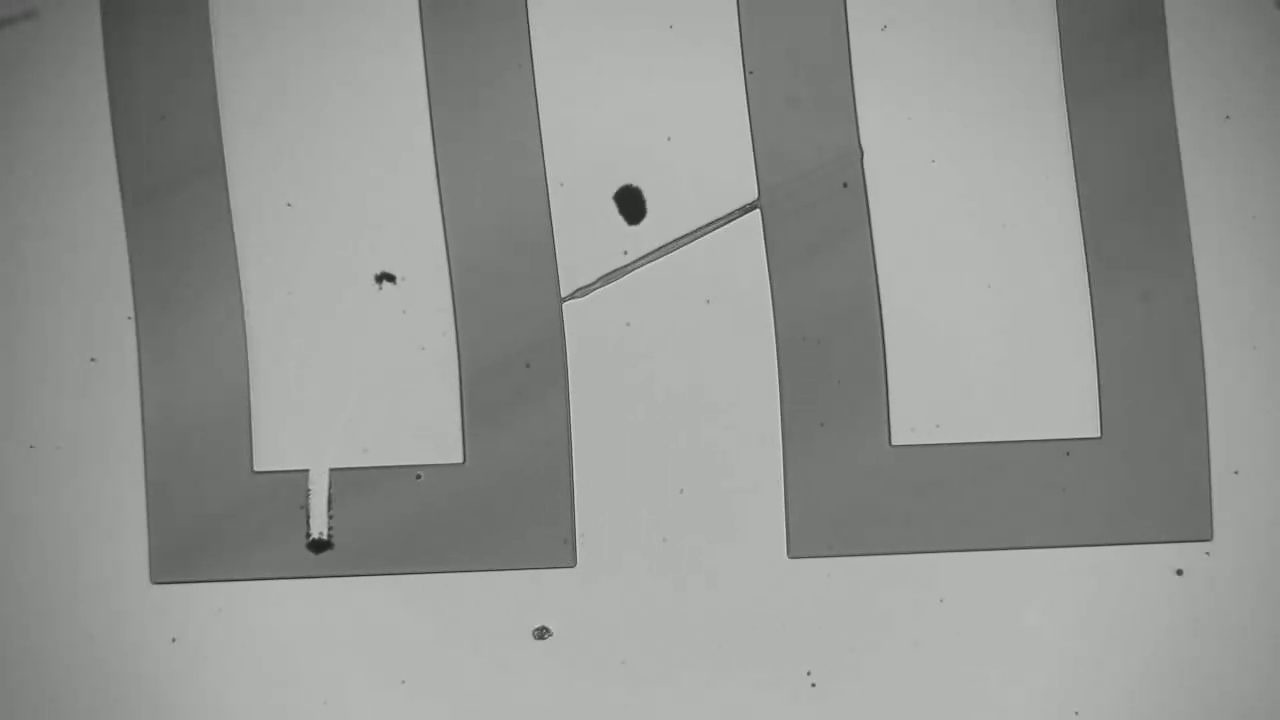Short_circuit: (286, 443, 369, 602)
